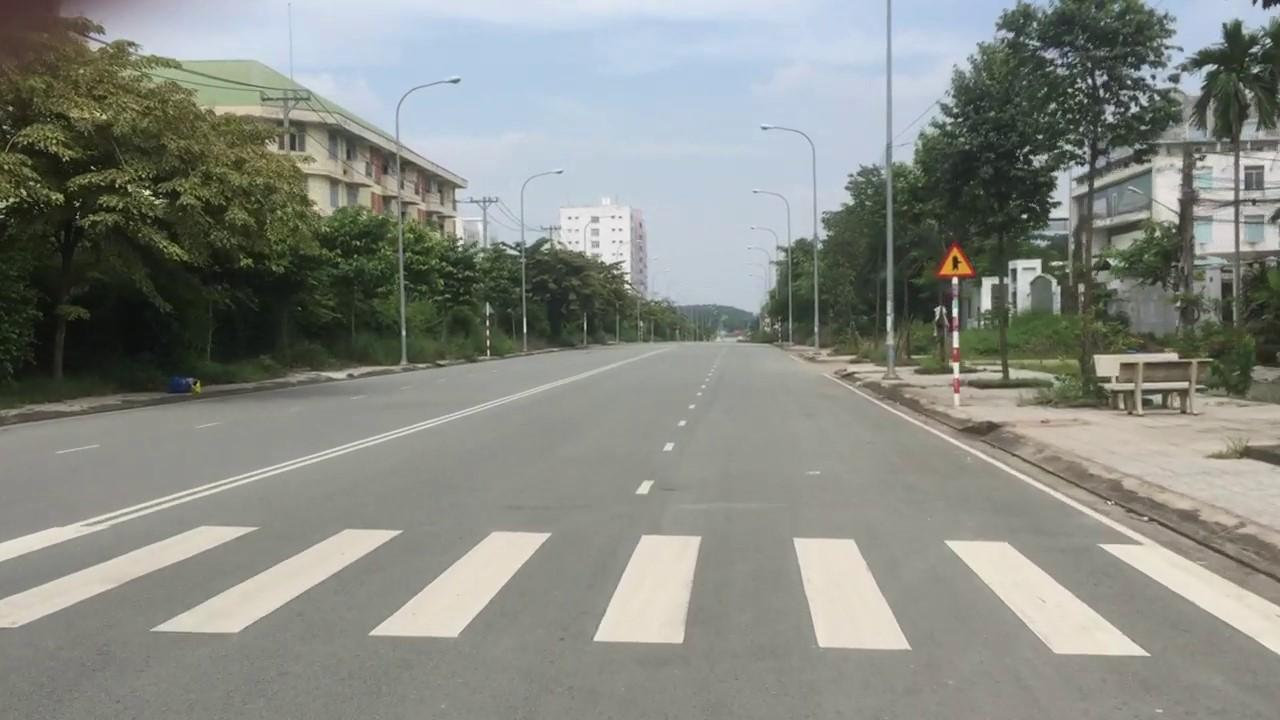P.127: (936, 241, 976, 279)
